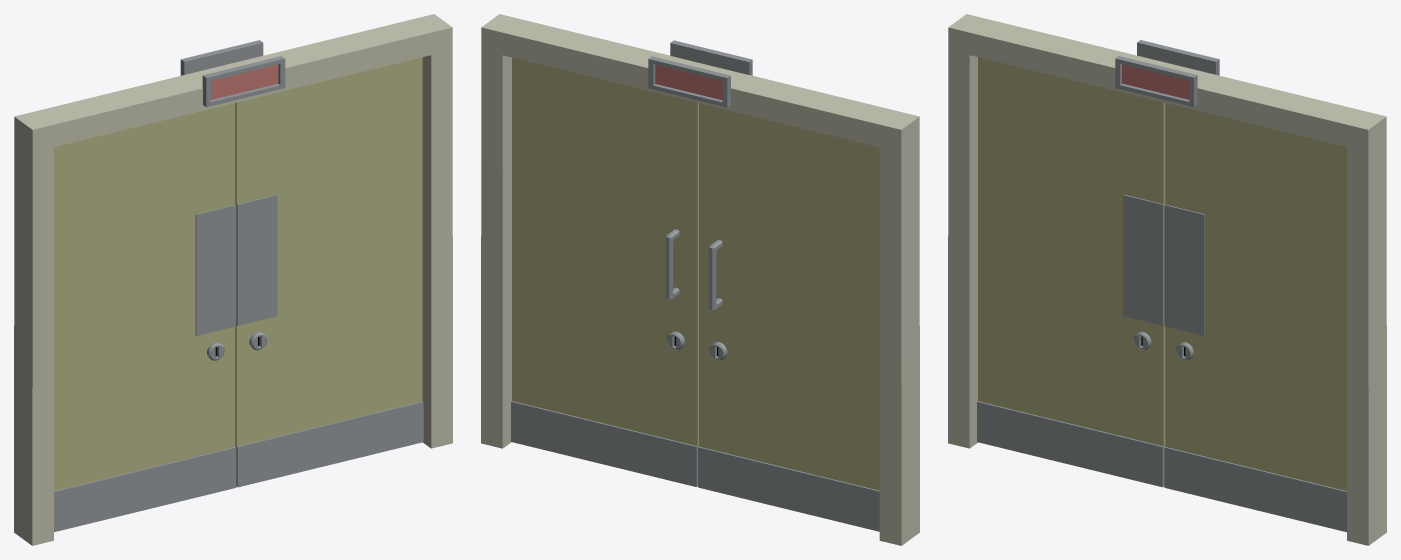
The model's file is Stowing_Warehouse_Double_Doors.fbx.
3 renders of one model, left to right at view 1: azimuth 30°, elevation 25°; view 2: azimuth 150°, elevation 25°; view 3: azimuth 330°, elevation 25°, orthographic.
Visible parts, largest first — view 1: pCylinder128, pCylinder129, polySurface43; view 2: pCylinder128, pCylinder129, polySurface43; view 3: pCylinder129, pCylinder128, polySurface43.
Boxes of the visible parts, x1=… form: pCylinder128: x1=235, y1=57, x2=423, y2=487; pCylinder129: x1=54, y1=103, x2=236, y2=532; polySurface43: x1=14, y1=14, x2=452, y2=545; pCylinder128: x1=511, y1=57, x2=698, y2=486; pCylinder129: x1=698, y1=103, x2=879, y2=531; polySurface43: x1=481, y1=14, x2=919, y2=545; pCylinder129: x1=977, y1=57, x2=1165, y2=487; pCylinder128: x1=1164, y1=103, x2=1346, y2=532; polySurface43: x1=948, y1=14, x2=1386, y2=545.
Bounding box in the file's own units: 2.24 × 2.18 × 0.2347.
